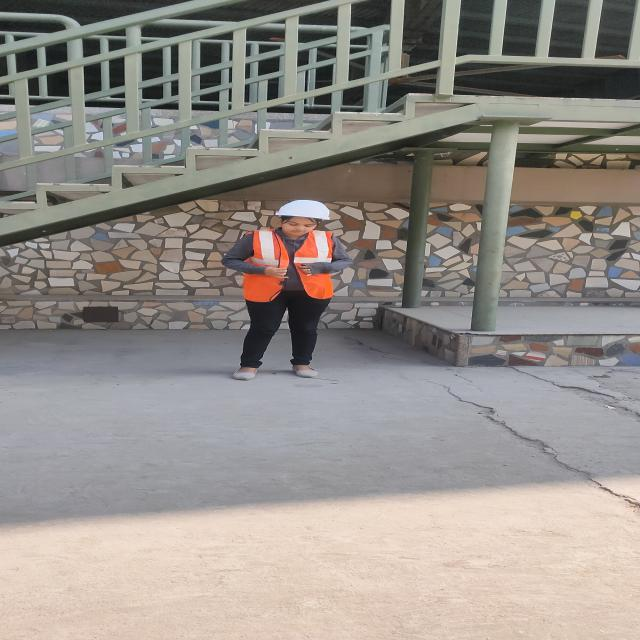safe: (222, 200, 353, 380)
